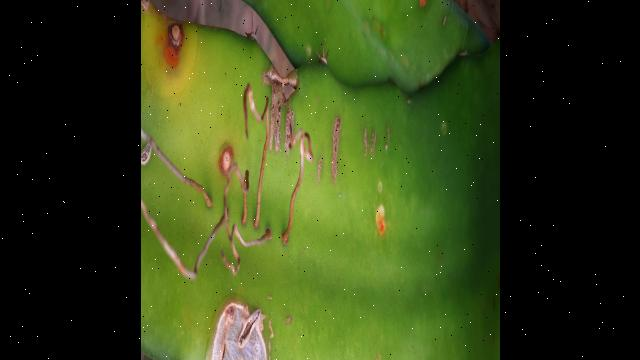stemcanker: (157, 18, 191, 72), (369, 201, 394, 244), (217, 142, 242, 182)
